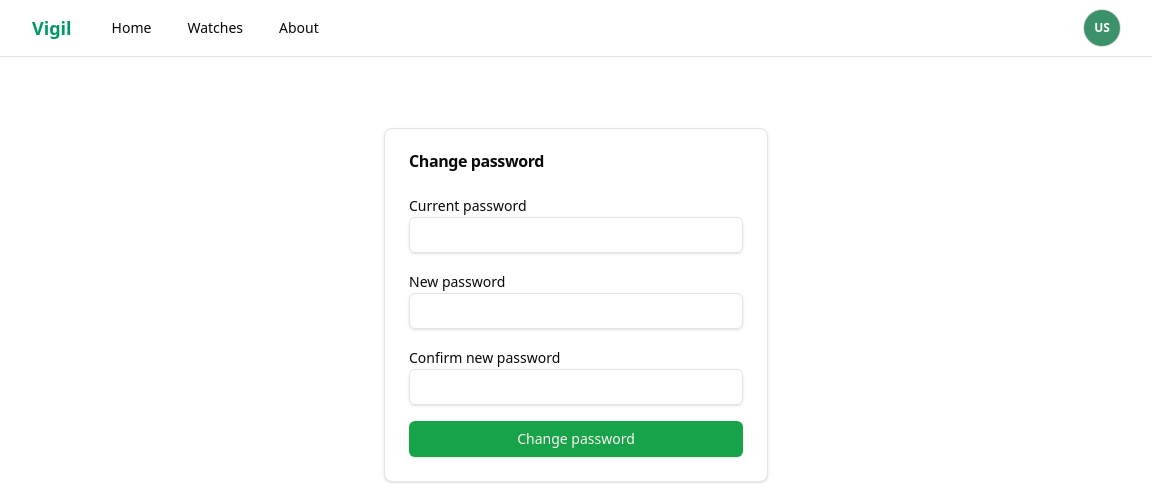
Scenario: Change password page › shows success message after successful password change
In the password field labelled "Current password": {"x": 576, "y": 235} [409, 217, 743, 253], type "OldPass1!"
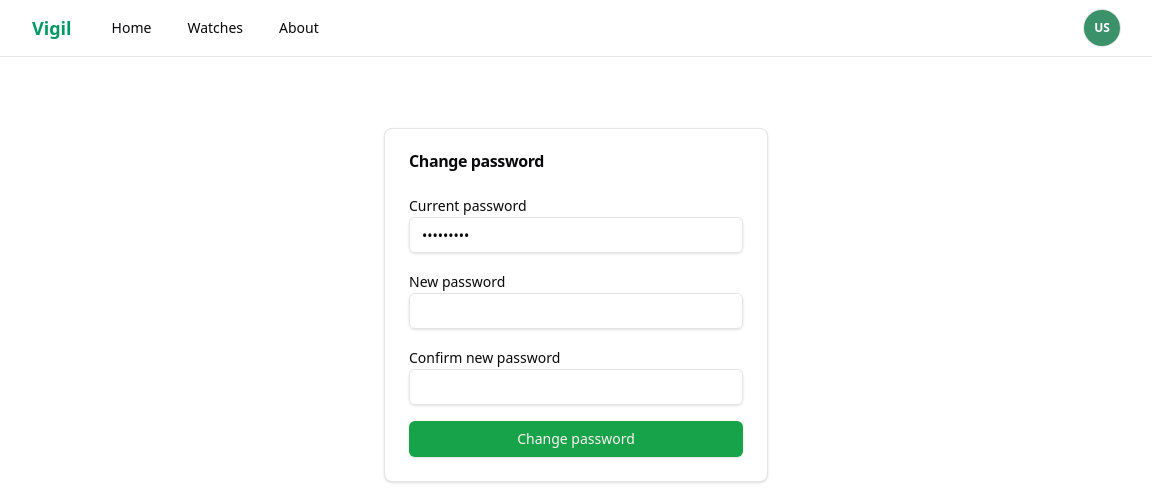
In the password field labelled "New password": {"x": 576, "y": 311} [409, 293, 743, 329], type "NewValidPass1!"
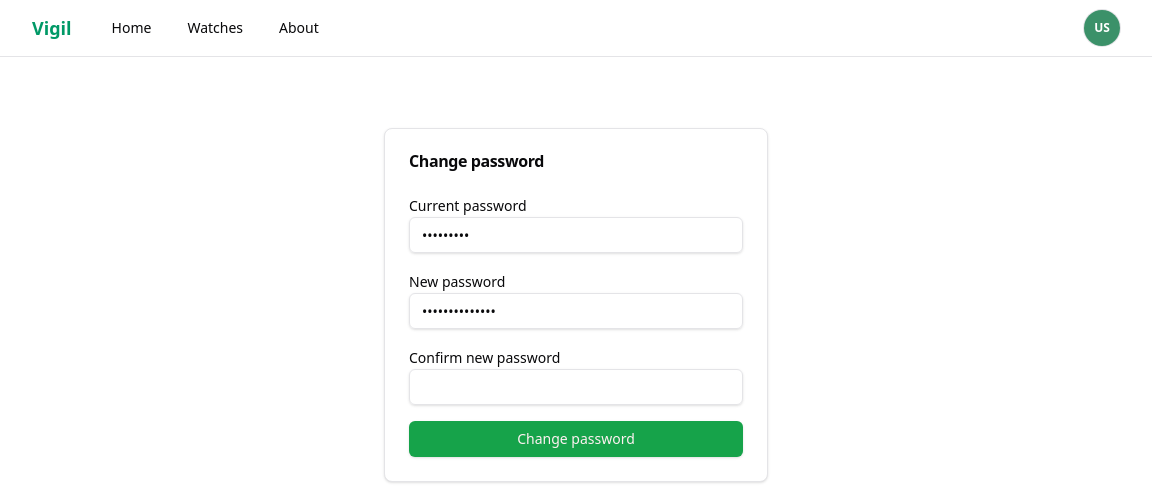
In the password field labelled "Confirm new password": {"x": 576, "y": 387} [409, 369, 743, 405], type "NewValidPass1!"
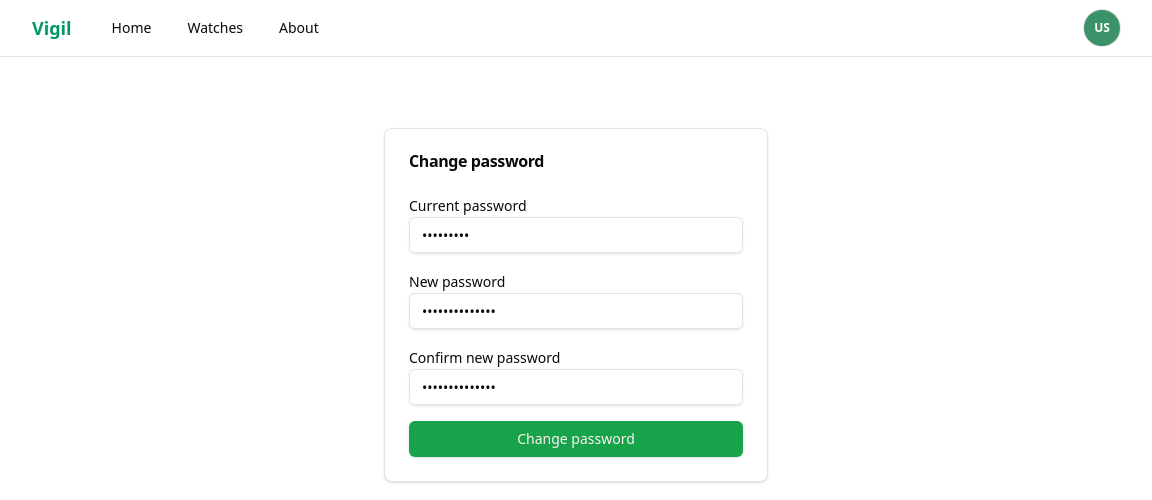
Click the button "Change password": {"x": 576, "y": 439} [409, 421, 743, 457]
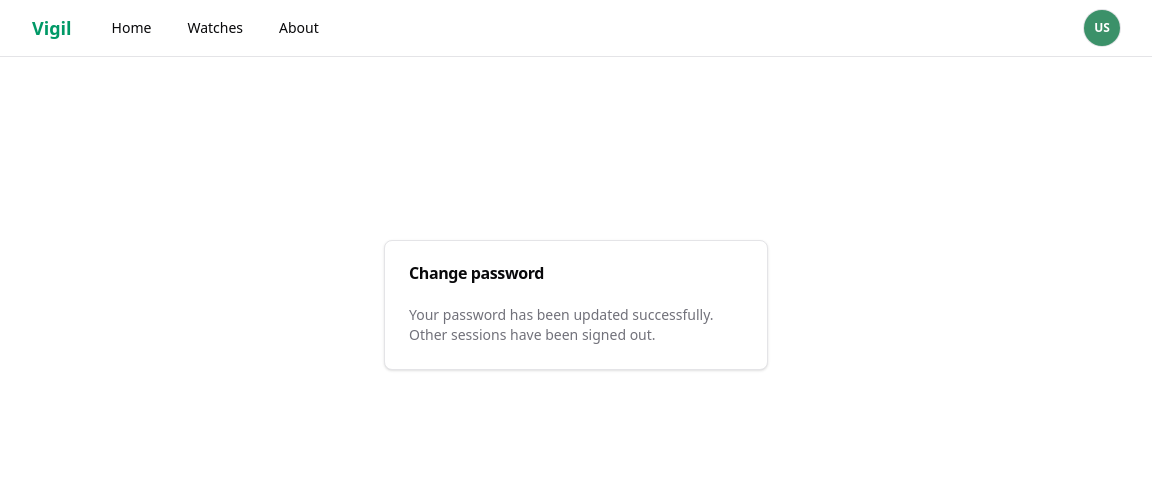
Now the message shows "password has been updated", box [409, 305, 714, 344]
